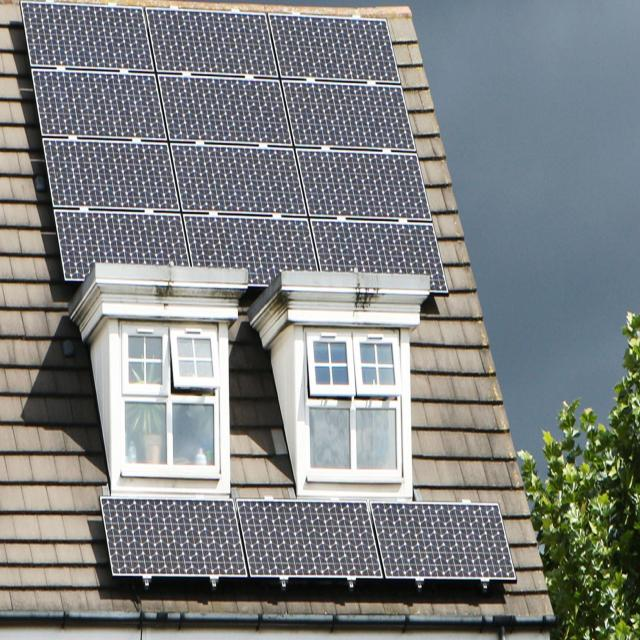clean-solar-panel: (22, 2, 445, 291), (100, 496, 516, 587)
